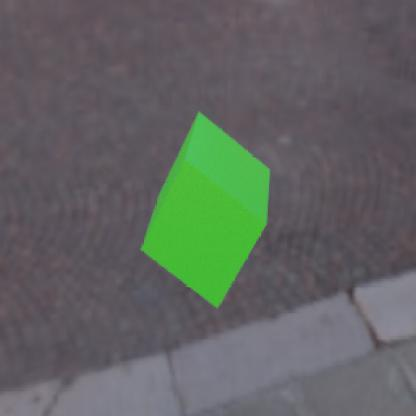green_cube: (140, 111, 270, 307)
